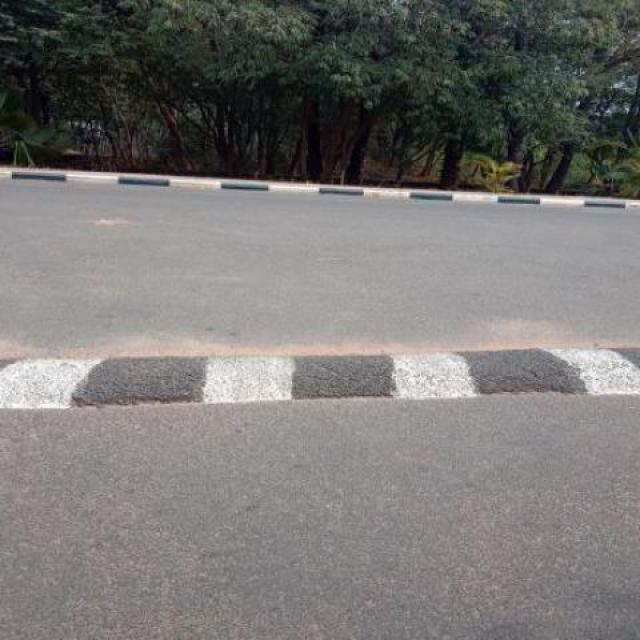Speed Bump: (0, 333, 639, 411)
